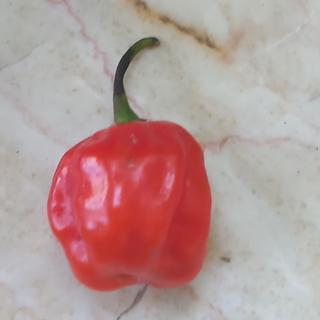Grade-B: (45, 113, 216, 293)
